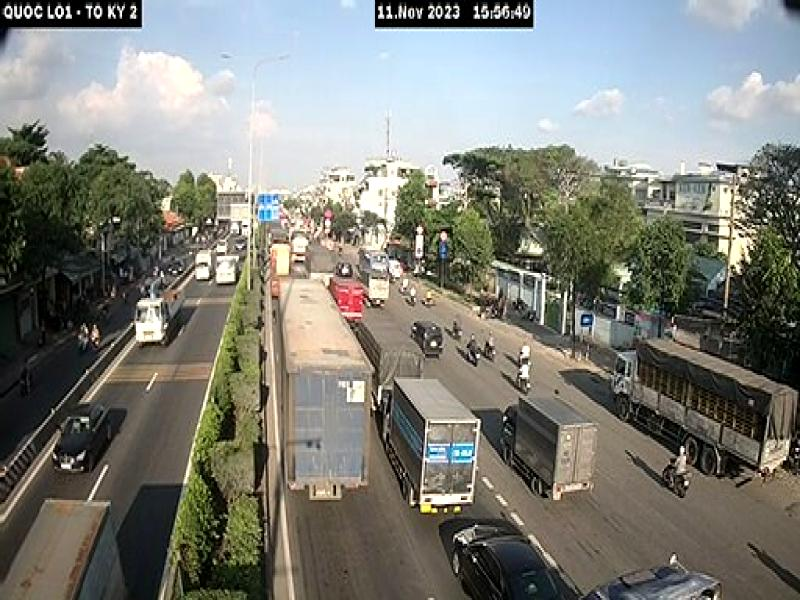truck: (608, 334, 799, 482), (272, 271, 372, 501), (380, 377, 481, 516), (499, 394, 595, 506), (132, 274, 184, 348)
